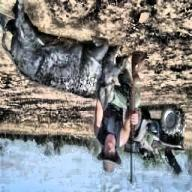boar: (0, 1, 128, 112)
